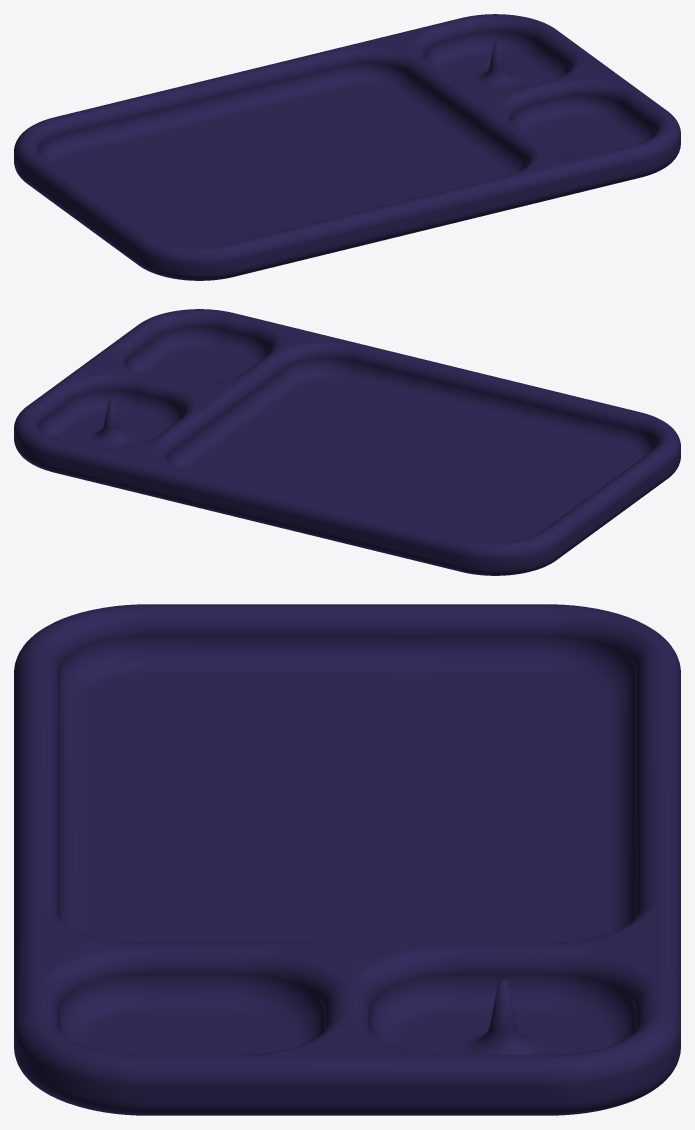
File: tray.glb
3 views of the same model, one above another, from view 1: azimuth 30°, elevation 25°; view 2: azimuth 150°, elevation 25°; view 3: azimuth 270°, elevation 25° (orthographic). The views are drawn at different scales.
Parts seen in each view (by area): view 1: geometry_0; view 2: geometry_0; view 3: geometry_0.
Boxes of the visible parts, x1,y1,x2,y2 form: geometry_0: [14, 14, 680, 280]; geometry_0: [14, 309, 680, 575]; geometry_0: [14, 604, 680, 1115].
Bounding box in the file's own units: 0.2296 × 0.0174 × 0.1378.
